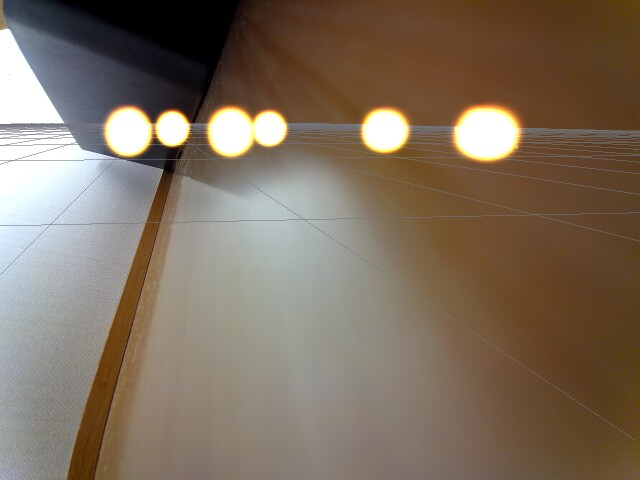firebig: (444, 98, 532, 169)
